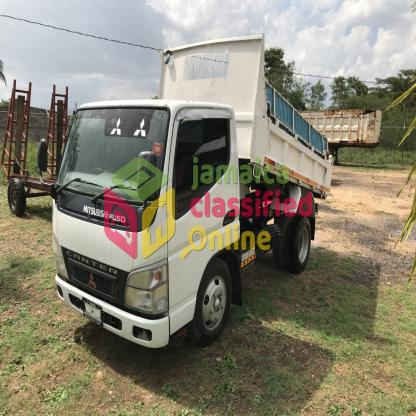truck: (38, 35, 334, 349)
